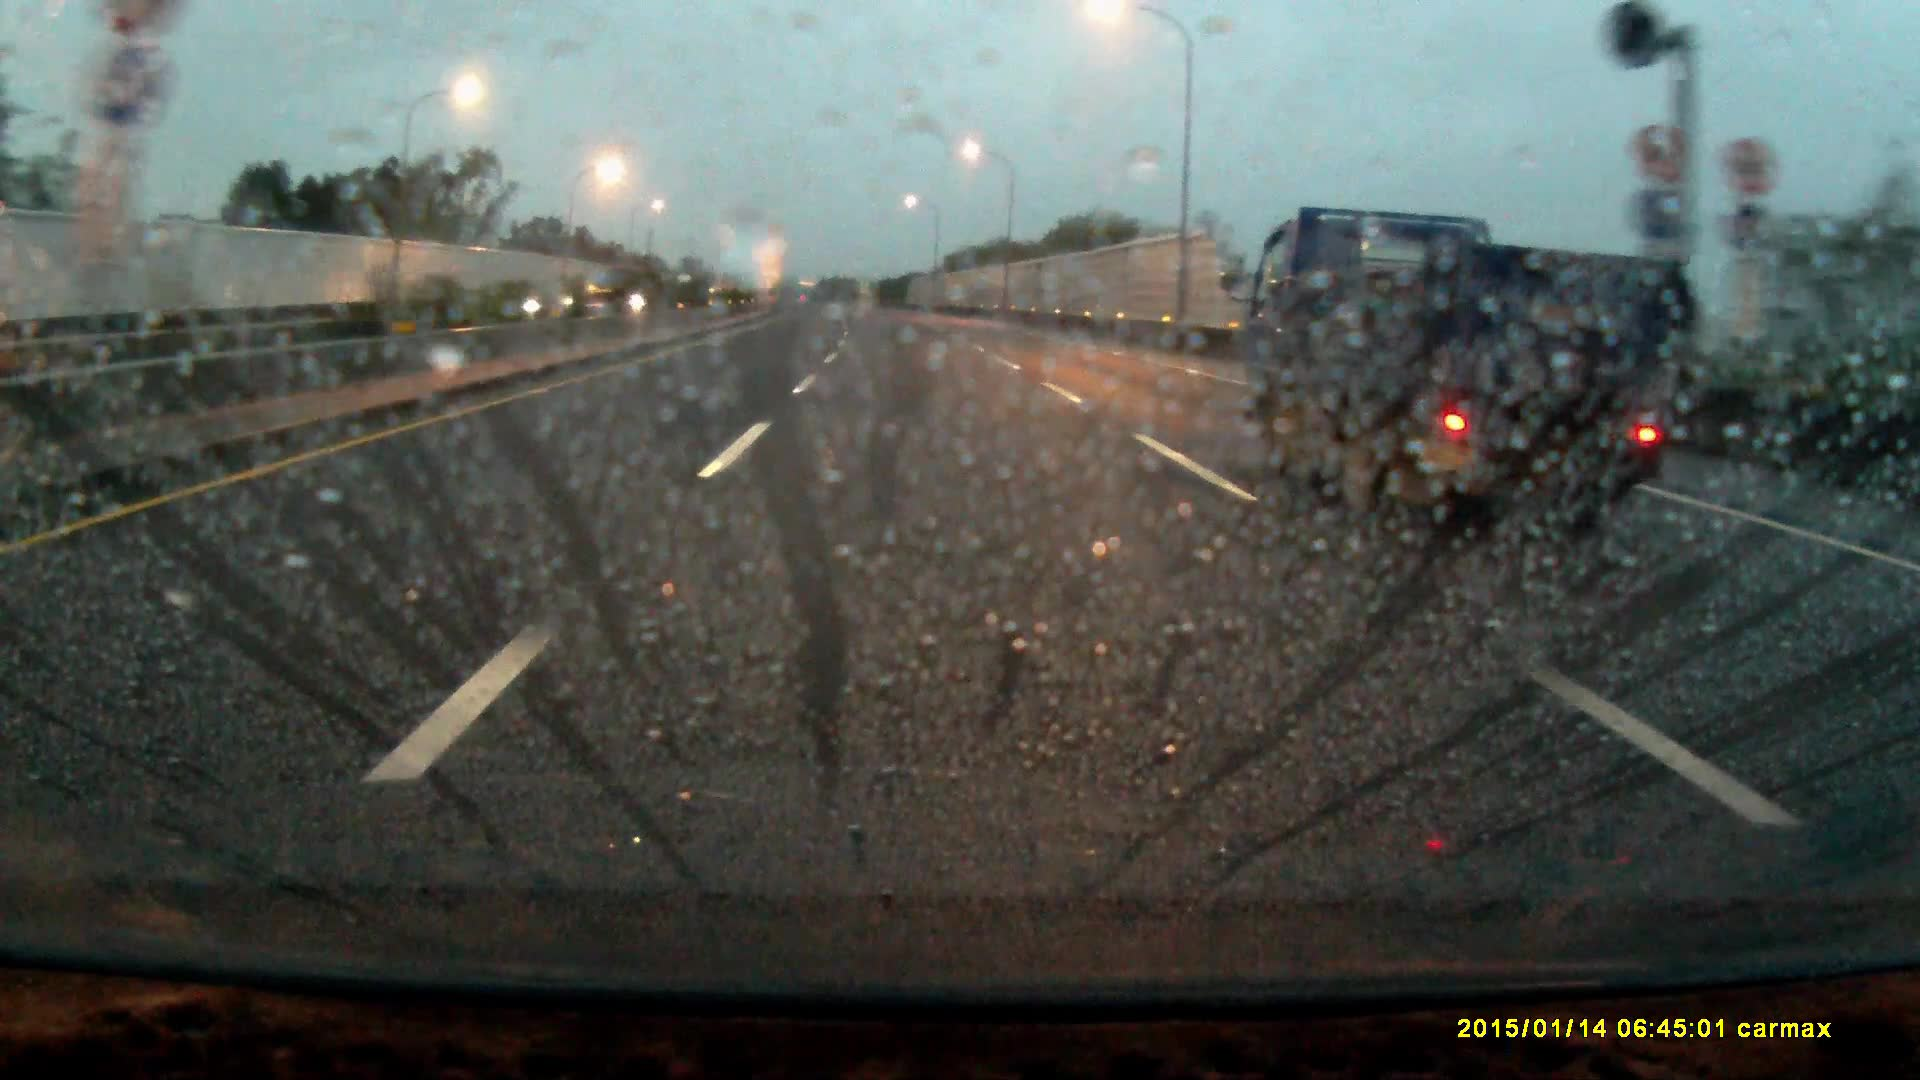vehicle: (1230, 202, 1712, 542)
